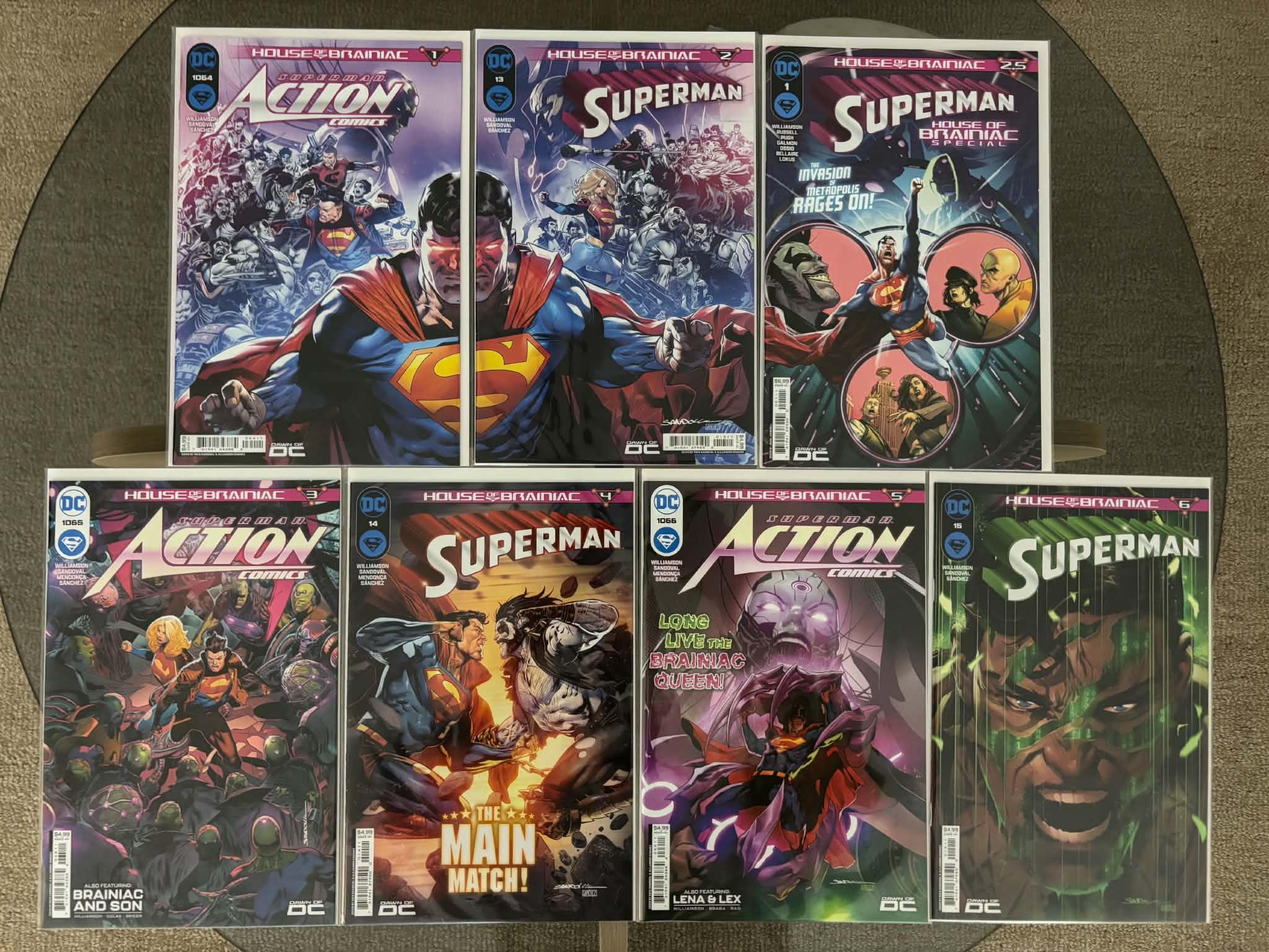comic: (40, 465, 342, 930), (168, 28, 471, 468), (341, 469, 634, 923), (638, 470, 929, 922), (929, 474, 1212, 922), (469, 31, 757, 464), (762, 36, 1050, 469)
